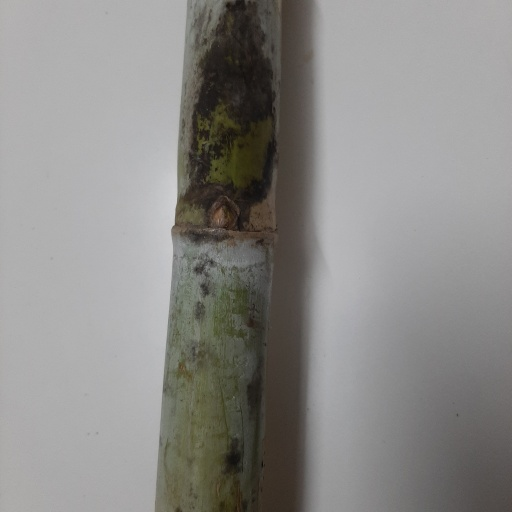Bud: (208, 199, 239, 228)
